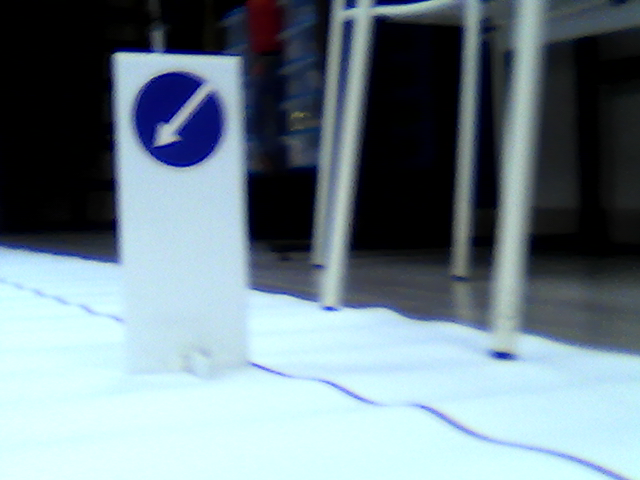prep: (128, 69, 227, 169)
